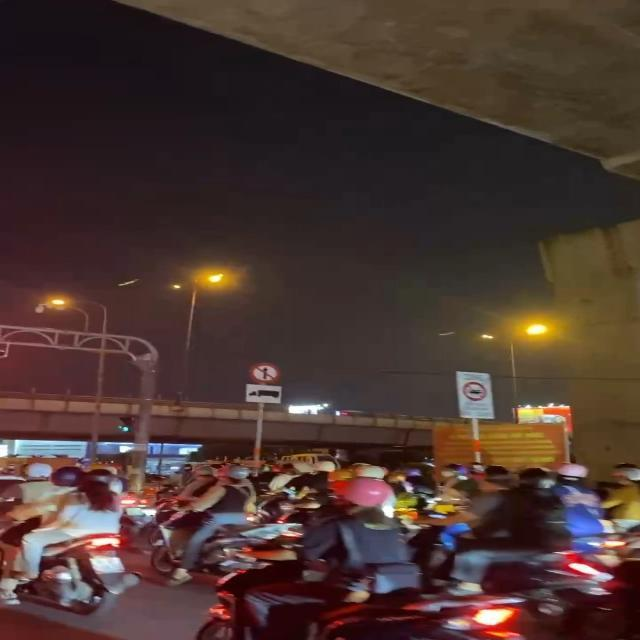136-cam-di-thang: (247, 362, 280, 385)
